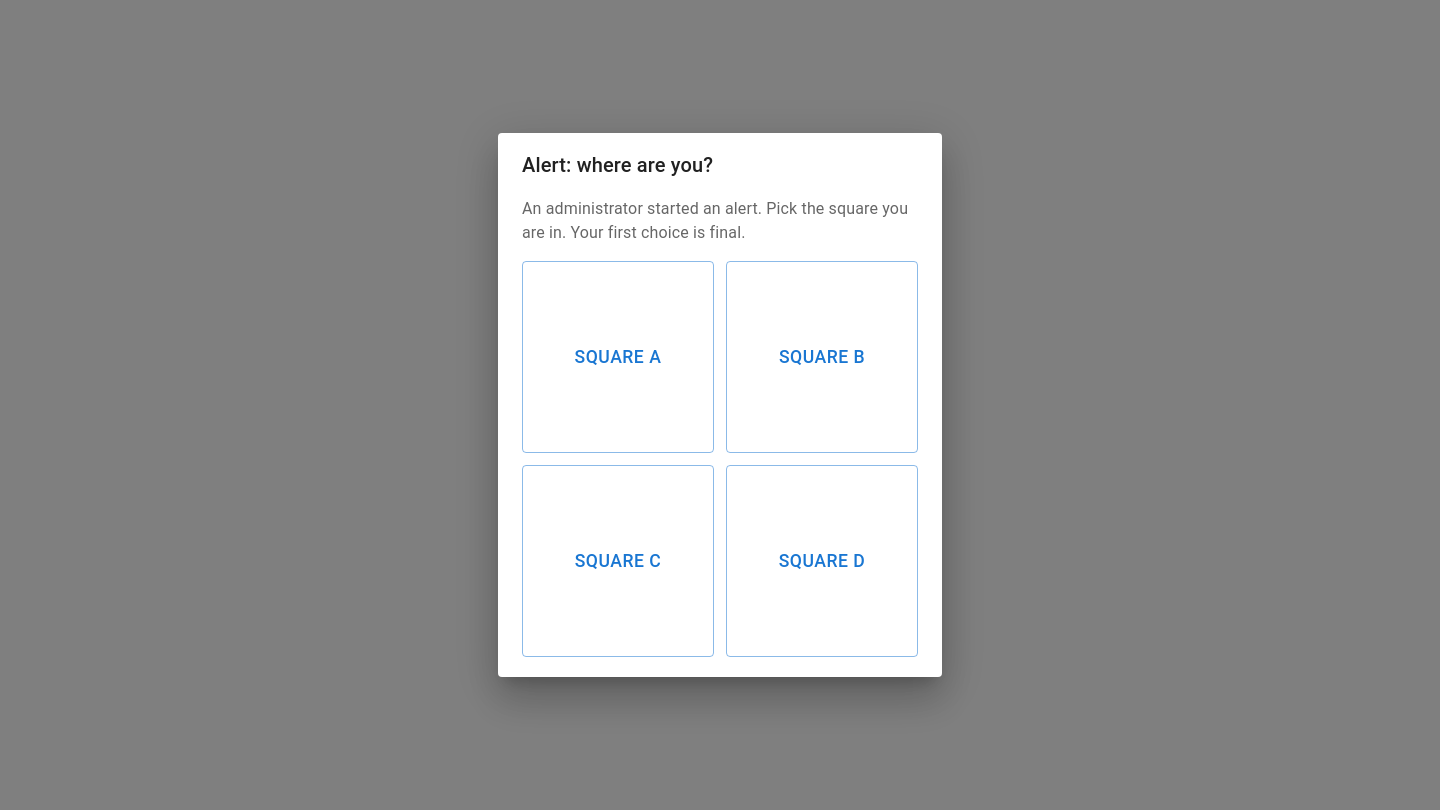
Test case: AlertModal › shows the error and stays open when the server refuses the pick
Click the button "Square A": (618, 357) x1=522 y1=261 x2=714 y2=453
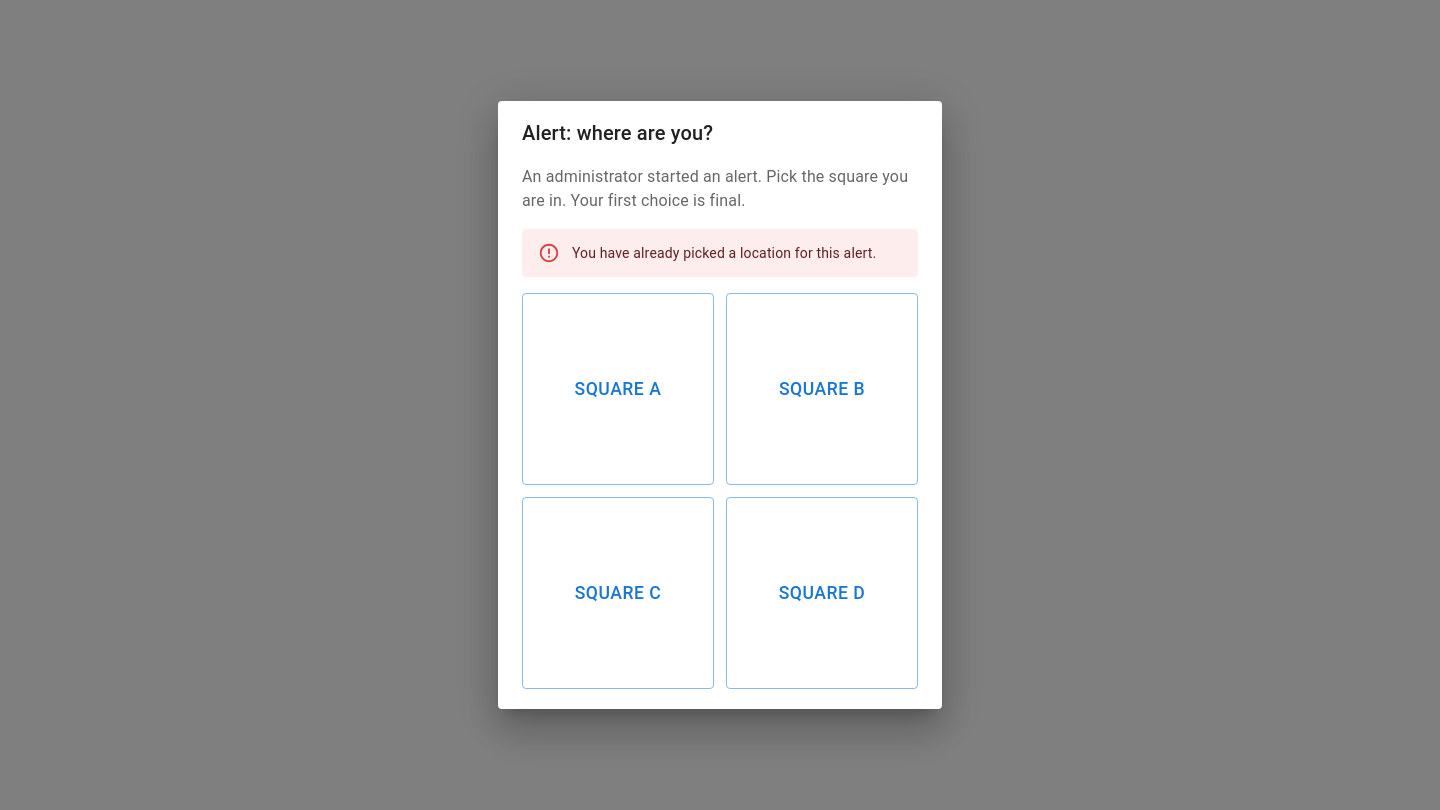
Expected: the dialog is shown, x1=498 y1=101 x2=942 y2=709
Result: the text "You have already picked a location for this alert." is shown at x1=572 y1=245 x2=876 y2=261
